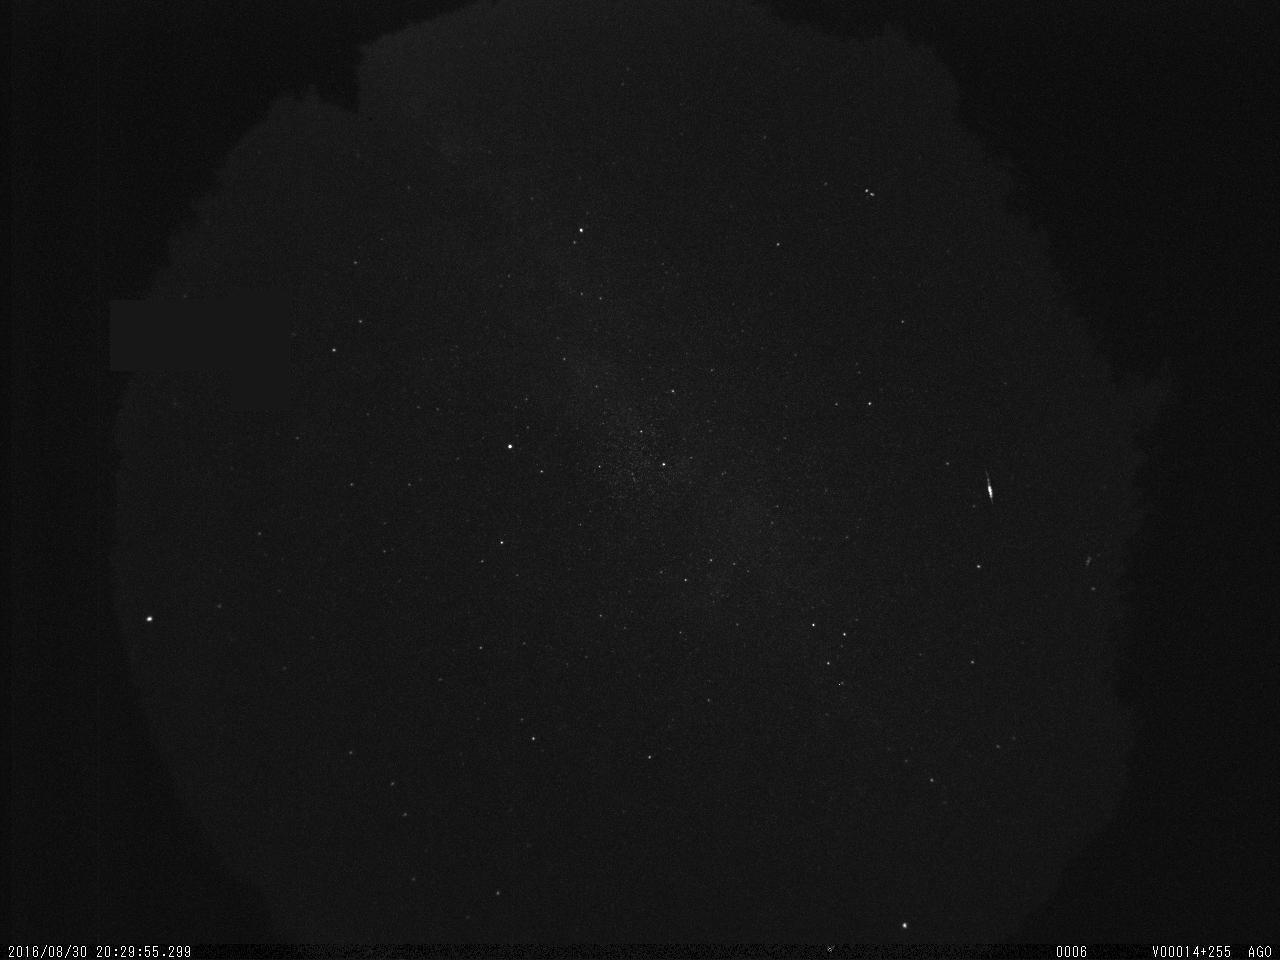Meteor: (981, 468, 995, 504)
